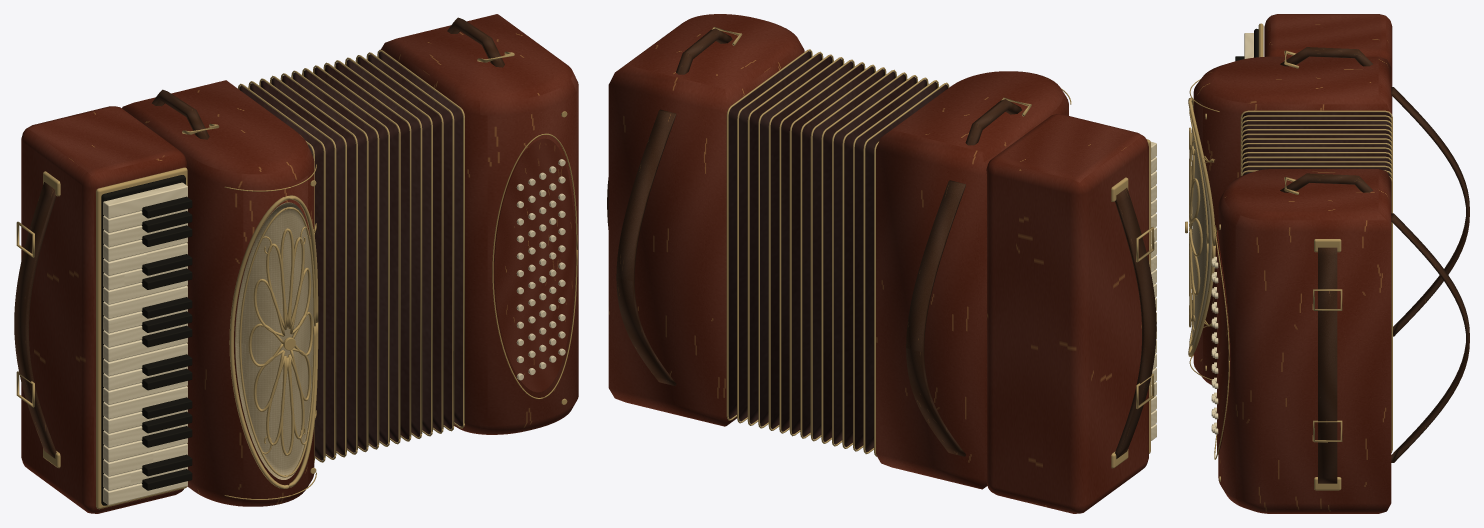
File: accordion-r03.glb
3 renders of one model, left to right at view 1: azimuth 30°, elevation 25°; view 2: azimuth 150°, elevation 25°; view 3: azimuth 270°, elevation 25°, orthographic. The views are drawn at different scales.
Parts seen in each view (by area): view 1: accordion_Varnished aged mahogany, accordion_Dark russet bellows, accordion_Antique brass, accordion_Aged ivory keys and buttons, accordion_Woven ivory grille cloth, accordion_Black piano keys, accordion_Dark stitched leather, accordion_Fine brass inlay; view 2: accordion_Varnished aged mahogany, accordion_Dark russet bellows, accordion_Antique brass, accordion_Dark stitched leather, accordion_Aged ivory keys and buttons; view 3: accordion_Varnished aged mahogany, accordion_Dark stitched leather, accordion_Antique brass, accordion_Dark russet bellows, accordion_Woven ivory grille cloth, accordion_Aged ivory keys and buttons, accordion_Fine brass inlay.
Part boxes in pixels (bbox=[...]): accordion_Varnished aged mahogany: bbox=[21, 14, 578, 513]; accordion_Dark russet bellows: bbox=[239, 51, 462, 460]; accordion_Antique brass: bbox=[16, 49, 567, 509]; accordion_Aged ivory keys and buttons: bbox=[103, 159, 565, 505]; accordion_Woven ivory grille cloth: bbox=[235, 202, 313, 479]; accordion_Black piano keys: bbox=[101, 175, 192, 505]; accordion_Dark stitched leather: bbox=[14, 17, 504, 458]; accordion_Fine brass inlay: bbox=[224, 133, 577, 499]; accordion_Varnished aged mahogany: bbox=[608, 14, 1148, 513]; accordion_Dark russet bellows: bbox=[728, 51, 947, 452]; accordion_Antique brass: bbox=[711, 26, 1154, 468]; accordion_Dark stitched leather: bbox=[607, 28, 1156, 458]; accordion_Aged ivory keys and buttons: bbox=[1151, 142, 1156, 440]; accordion_Varnished aged mahogany: bbox=[1193, 14, 1392, 513]; accordion_Dark stitched leather: bbox=[1280, 47, 1469, 483]; accordion_Antique brass: bbox=[1185, 23, 1392, 490]; accordion_Dark russet bellows: bbox=[1242, 112, 1391, 177]; accordion_Woven ivory grille cloth: bbox=[1192, 105, 1211, 347]; accordion_Aged ivory keys and buttons: bbox=[1211, 33, 1253, 434]; accordion_Fine brass inlay: bbox=[1189, 79, 1229, 459].
Size of the model in its own units: 0.768 by 0.4863 by 0.3935.
Materials: 8 (5 with a texture image).
